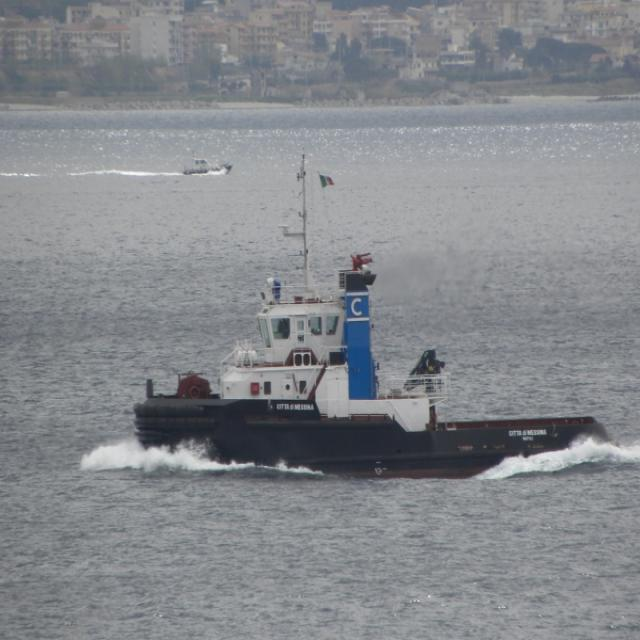houseboat: (122, 250, 621, 480), (179, 151, 232, 182)
